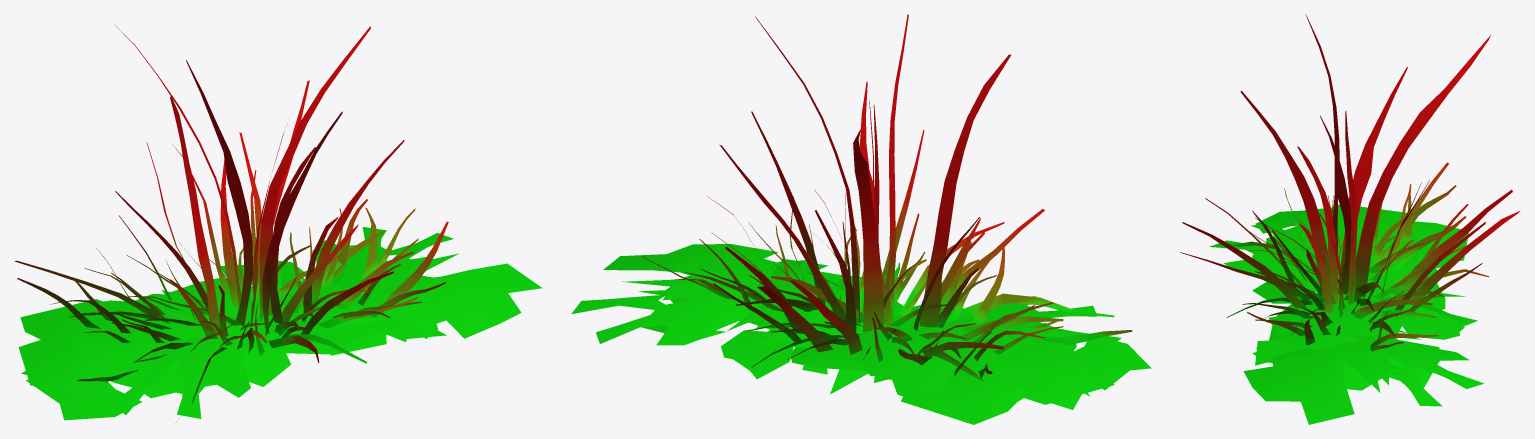
Rendered from Wild Grass_LOD0_Var7_vczndjqja.fbx.
The picture shows the model from 3 angles, left to right: view 1: azimuth 30°, elevation 25°; view 2: azimuth 150°, elevation 25°; view 3: azimuth 270°, elevation 25°; orthographic projection. The views are drawn at different scales.
Visible parts, largest first — view 1: _3i5h_Var7_LOD0; view 2: _3i5h_Var7_LOD0; view 3: _3i5h_Var7_LOD0.
Part boxes in pixels (x1,y1,x2,y2): _3i5h_Var7_LOD0: (14,24,542,421); _3i5h_Var7_LOD0: (571,14,1151,424); _3i5h_Var7_LOD0: (1180,14,1519,424).
Bounding box in the file's own units: 103 × 56.9 × 69.62.
